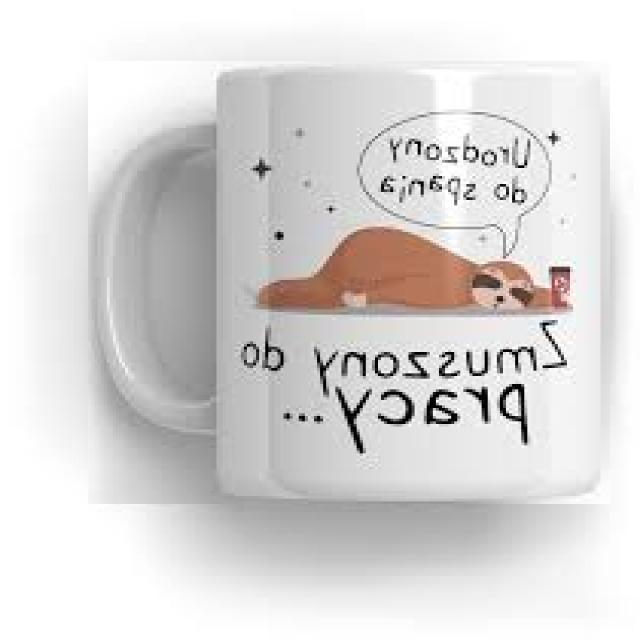Coffee Mug: (97, 63, 605, 499)
